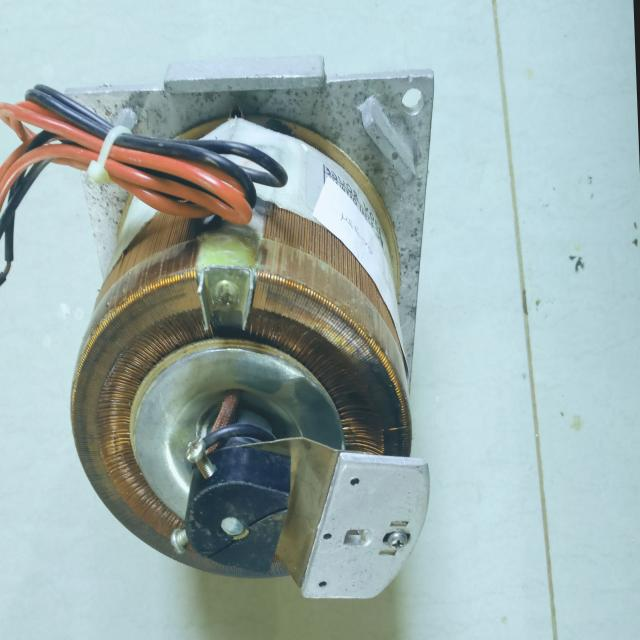AC Transformer: (50, 99, 457, 633)
